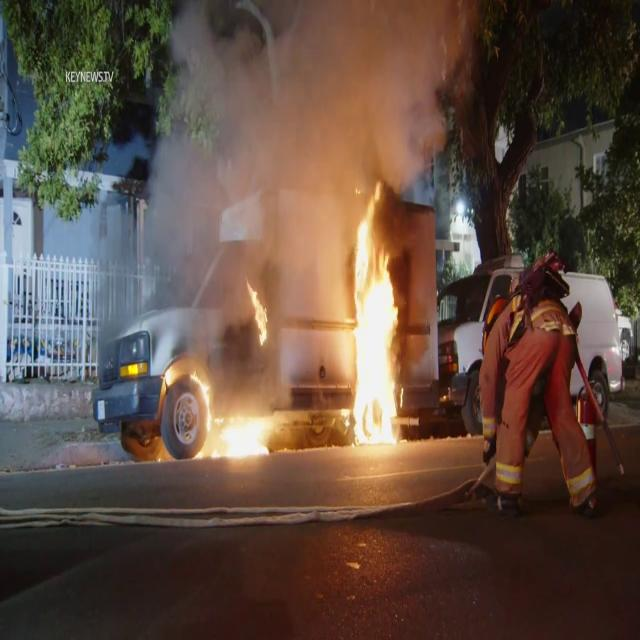Fire: (339, 174, 408, 446), (157, 357, 279, 466)
Smoke: (110, 0, 476, 335)
